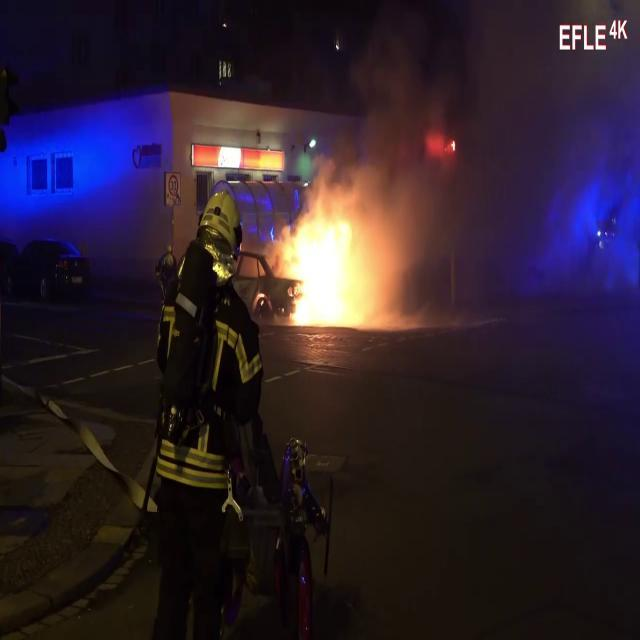Fire: (277, 197, 364, 327)
Smoke: (326, 0, 640, 301)
